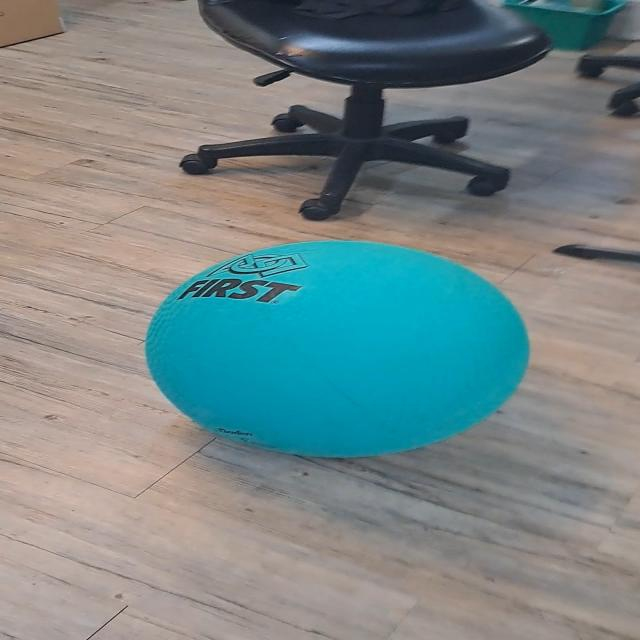ALGAE: (142, 238, 532, 459)
